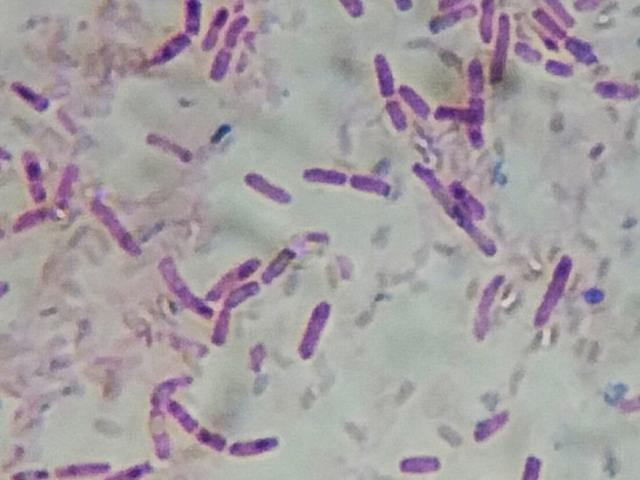E. coli: (92, 193, 140, 262), (536, 249, 574, 334), (442, 203, 492, 256), (163, 255, 207, 315), (471, 267, 504, 342), (242, 166, 291, 211), (225, 430, 285, 466), (141, 126, 195, 165), (302, 302, 331, 367), (142, 26, 187, 67), (265, 242, 302, 286), (596, 73, 640, 108), (348, 165, 393, 199), (418, 157, 451, 203), (151, 402, 178, 458), (393, 453, 448, 480), (495, 10, 512, 96), (11, 77, 48, 114), (301, 160, 347, 189), (151, 369, 194, 400), (53, 457, 108, 480), (218, 255, 264, 282), (22, 142, 43, 201), (21, 205, 63, 234), (56, 159, 81, 205), (429, 8, 479, 31), (471, 405, 508, 435), (206, 5, 230, 51), (469, 92, 488, 149), (225, 12, 248, 57), (173, 393, 199, 432), (331, 0, 375, 23), (432, 100, 476, 123), (547, 0, 581, 29), (453, 179, 481, 214), (229, 279, 265, 306), (211, 46, 232, 91), (466, 56, 488, 98), (107, 461, 155, 480), (372, 52, 393, 95), (383, 96, 407, 133), (530, 8, 554, 45), (213, 306, 232, 350), (399, 79, 423, 111), (523, 443, 542, 480), (573, 35, 595, 65), (9, 461, 43, 480), (477, 0, 491, 46), (515, 37, 540, 62), (196, 422, 220, 448), (185, 2, 204, 34), (544, 56, 569, 80), (392, 0, 414, 15)
